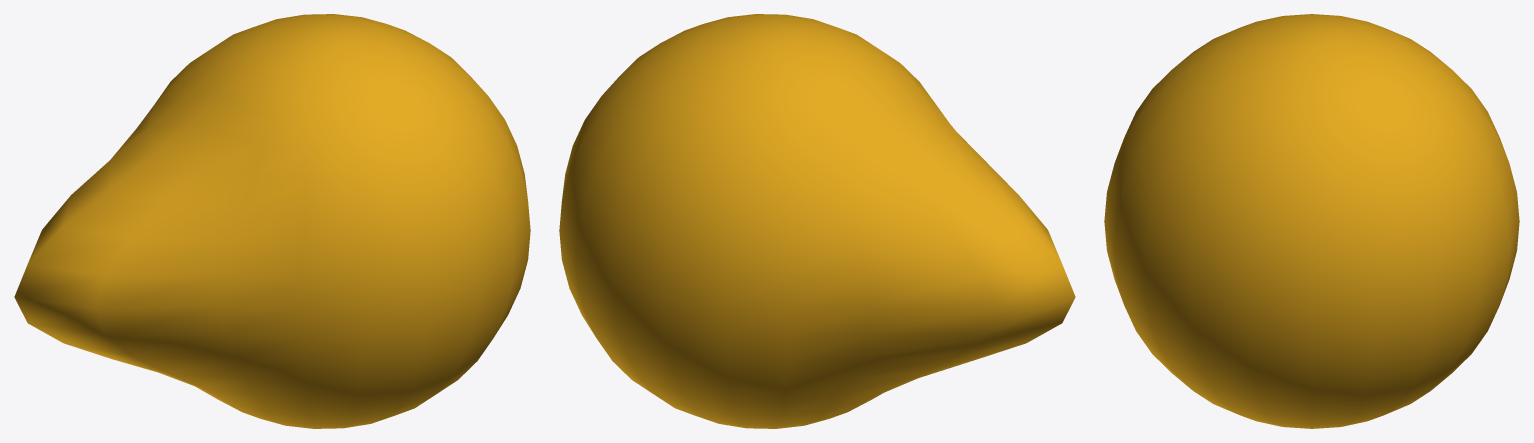
File: bullet.obj
The picture shows the model from 3 angles, left to right: view 1: azimuth 30°, elevation 25°; view 2: azimuth 150°, elevation 25°; view 3: azimuth 270°, elevation 25°; orthographic projection.
Parts seen in each view (by area): view 1: pSphere3; view 2: pSphere3; view 3: pSphere3.
Part boxes in pixels (left/top/right/bottom): pSphere3: left=14, top=14, right=530, bottom=428; pSphere3: left=559, top=14, right=1075, bottom=428; pSphere3: left=1104, top=14, right=1519, bottom=428.
Size of the model in its own units: 0.7361 by 0.5413 by 0.5413.
